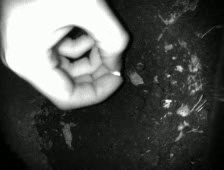corn: (108, 67, 122, 77)
